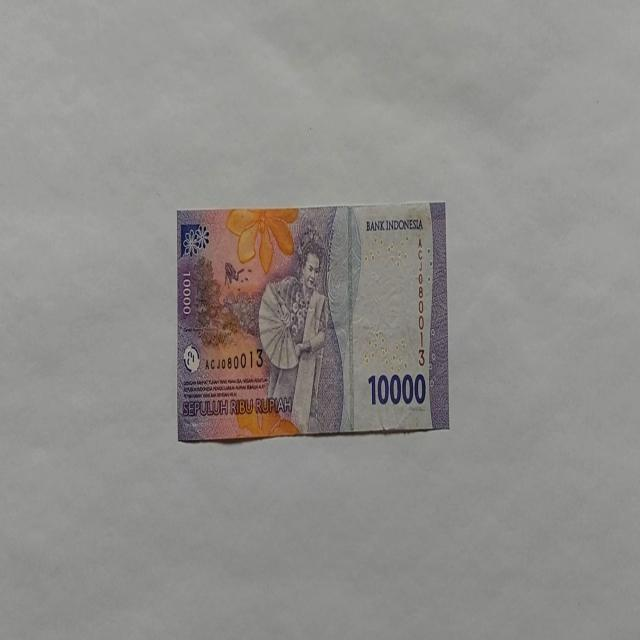sepuluh ribu rupiah: (175, 201, 449, 443)
